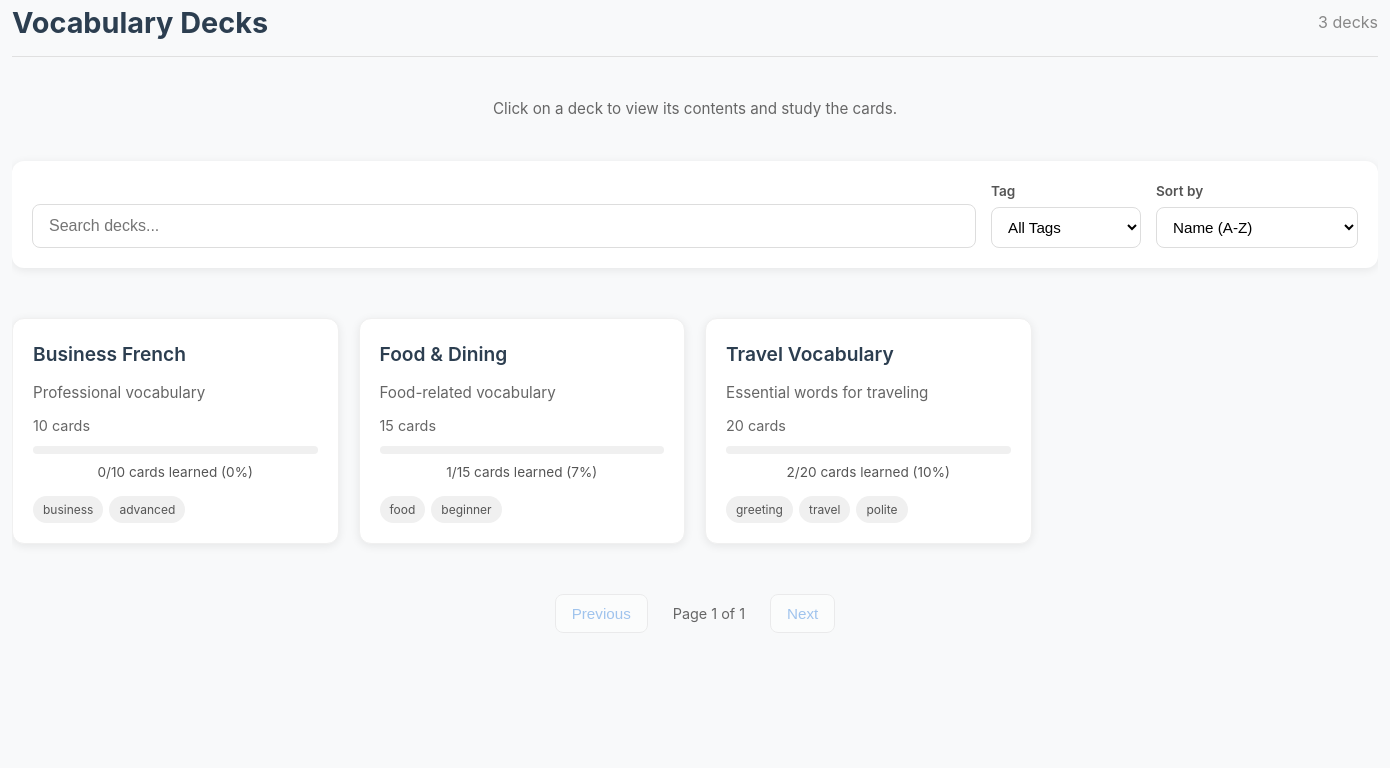
Test: DeckBrowser › Tag Filtering (AC4) › filters decks by tag
The width and height of the screenshot is (1390, 768).
Expected: the button with test id "deck-card-1" is shown, 705,318 -> 1032,544
Note: Filter by "travel" tag
Step 1. Select "travel" in the dropdown with test id "deck-tag-filter" → (1066, 228), box 991,207 -> 1141,248
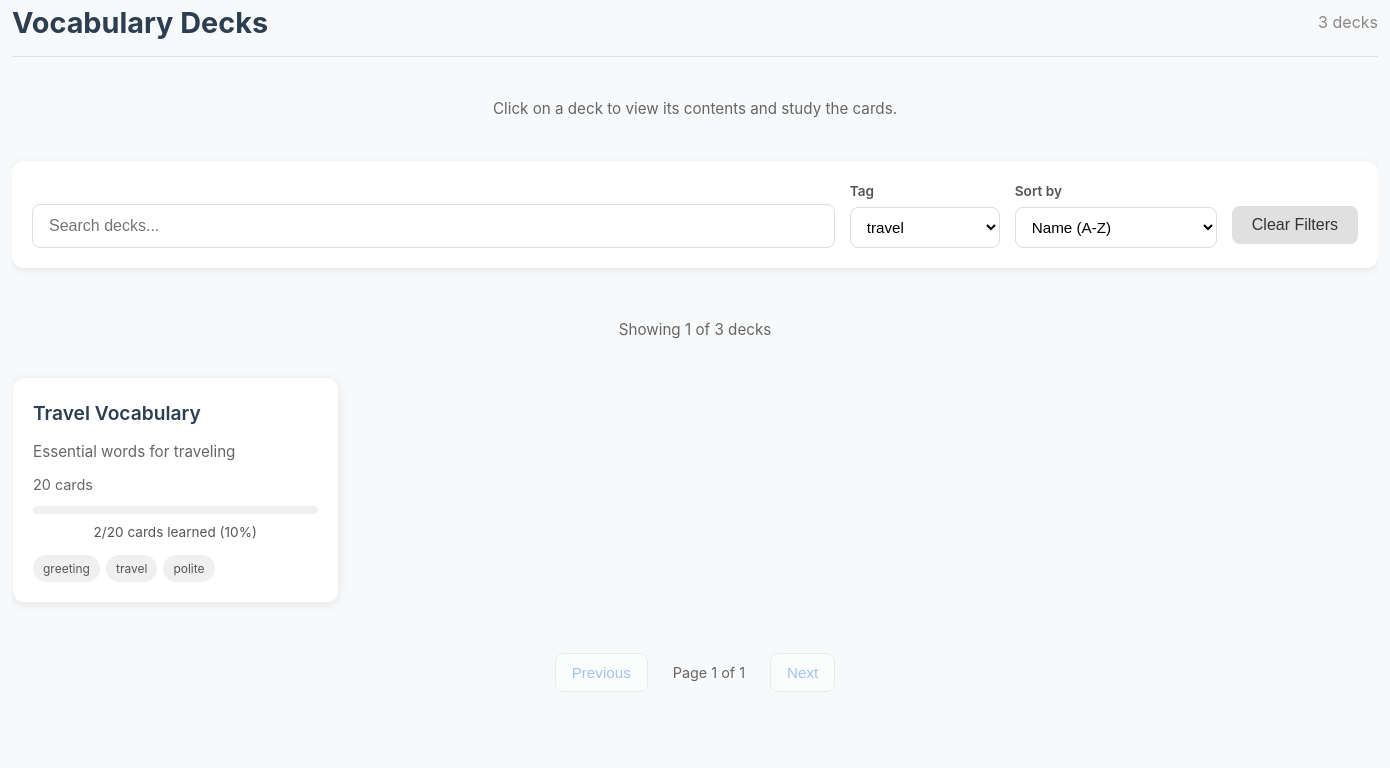
Expected: the button with test id "deck-card-1" is shown, 12,377 -> 338,603
Expected: the button with test id "deck-card-2" is gone
Expected: the button with test id "deck-card-3" is gone
